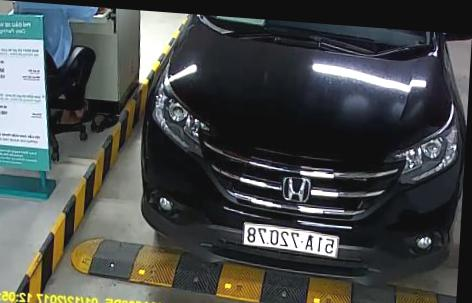License_Plate: (244, 223, 344, 253)
